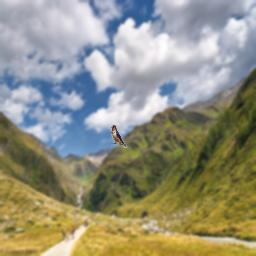Swallow: (111, 125, 128, 148)
